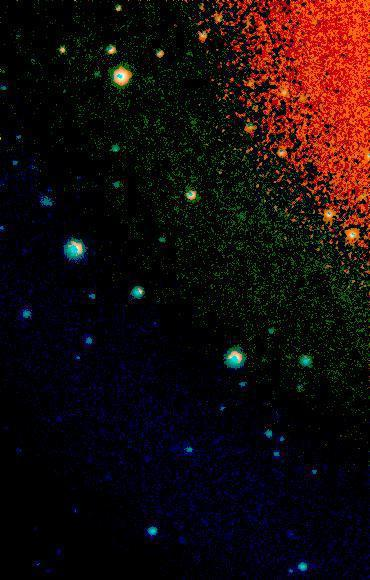star: (47, 35, 77, 65)
